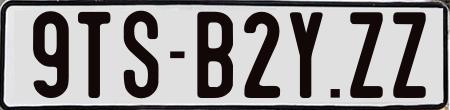2: (244, 10, 285, 97)
9: (30, 9, 72, 98)
B: (195, 9, 236, 97)
S: (122, 11, 158, 99)
T: (78, 12, 111, 99)
Y: (287, 11, 323, 99)
Z: (350, 10, 387, 96), (392, 10, 427, 99)
